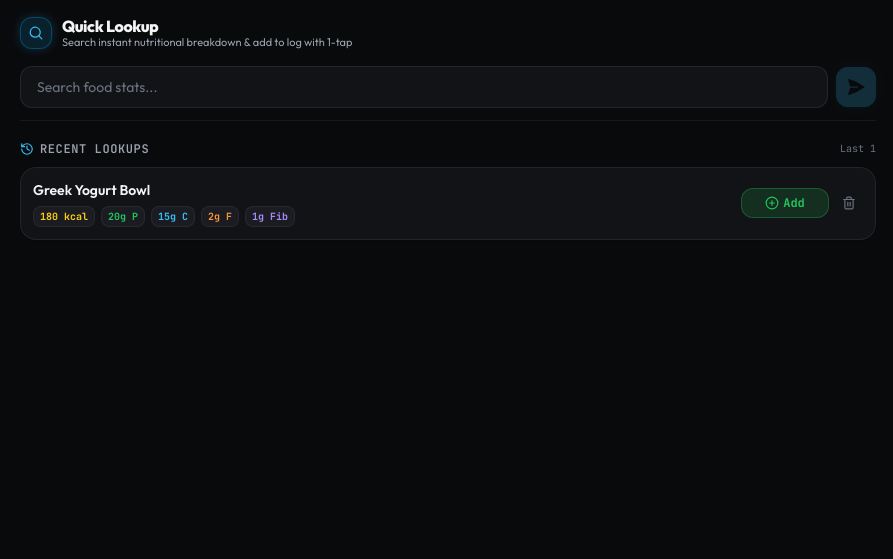
Test case: LookupPanel Component › submits query to /api/logMeal, saves to Firestore lookup history, and renders LookupCard
The image size is (893, 559).
In the field with placeholder "Search food stats...": (424, 87) [20, 66, 828, 108], type "1 banana"
Then press Enter
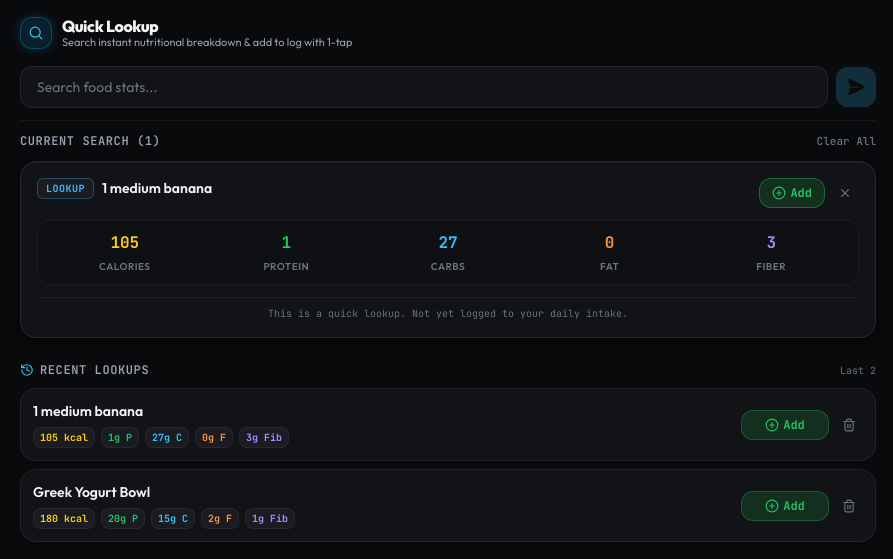
Expected: the text "Current Search (1)" is shown, [20, 133, 160, 149]
Expected: the text "105" is shown, [110, 232, 139, 253]
Expected: the text "27" is shown, [438, 232, 458, 253]
